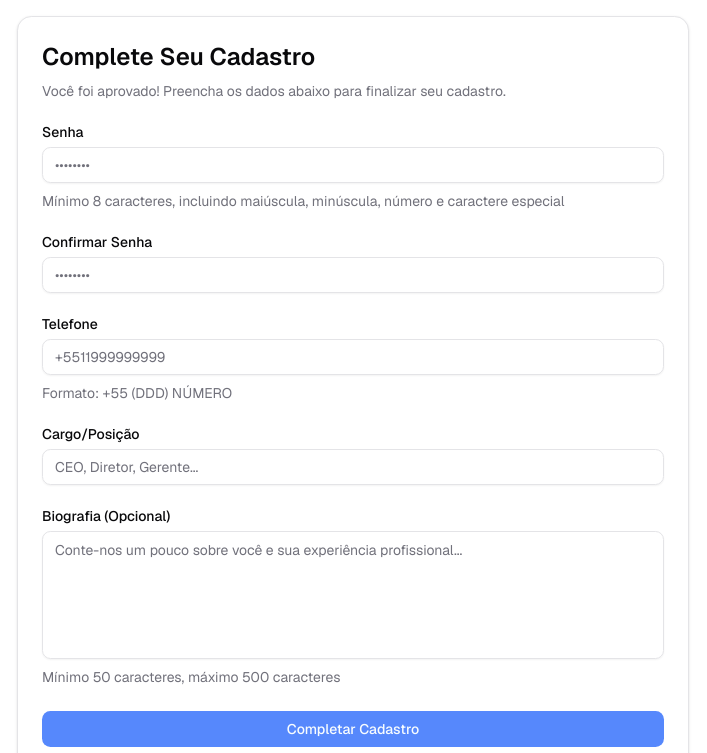
it: RegisterPage › deve mostrar erros de validação para campos obrigatórios vazios
Click the button "Completar Cadastro" at (353,729), box [42, 711, 664, 747]
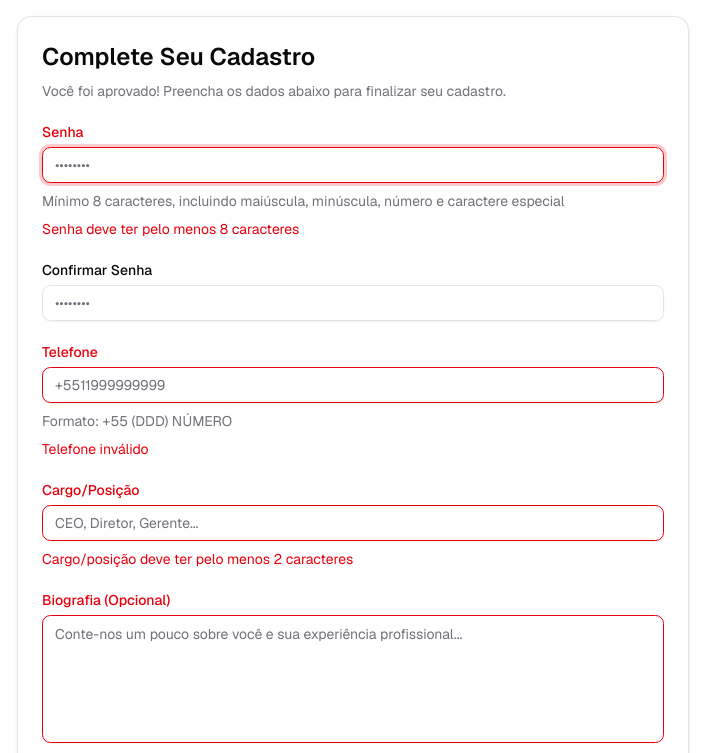
Result: the text "Senha deve ter pelo menos 8 caracteres" is shown at [42, 220, 299, 238]
